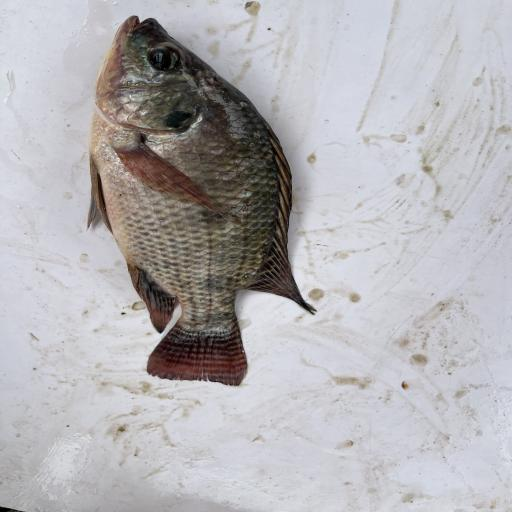Tilapia: (86, 15, 317, 386)
